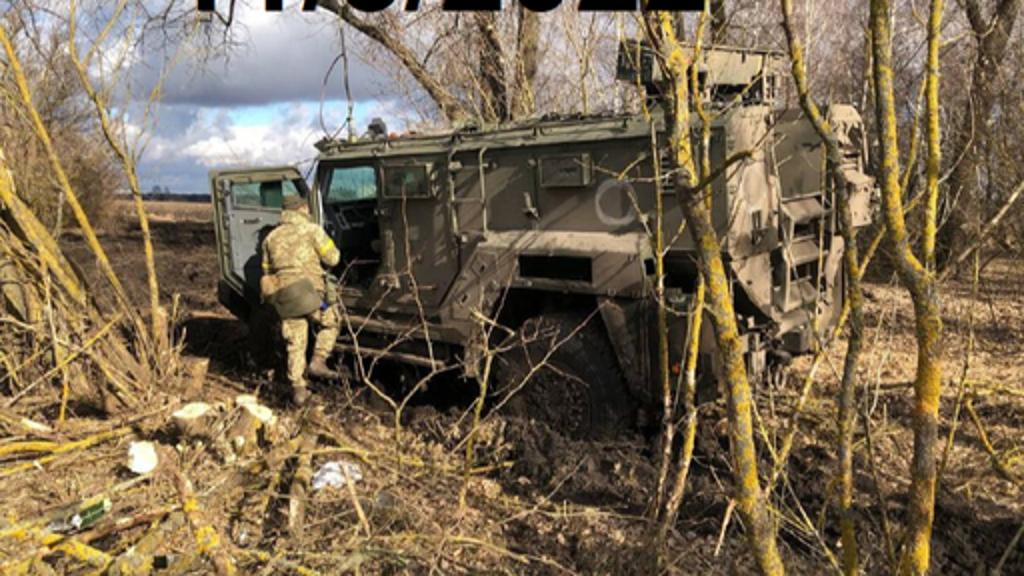CAR: (210, 42, 876, 450)
